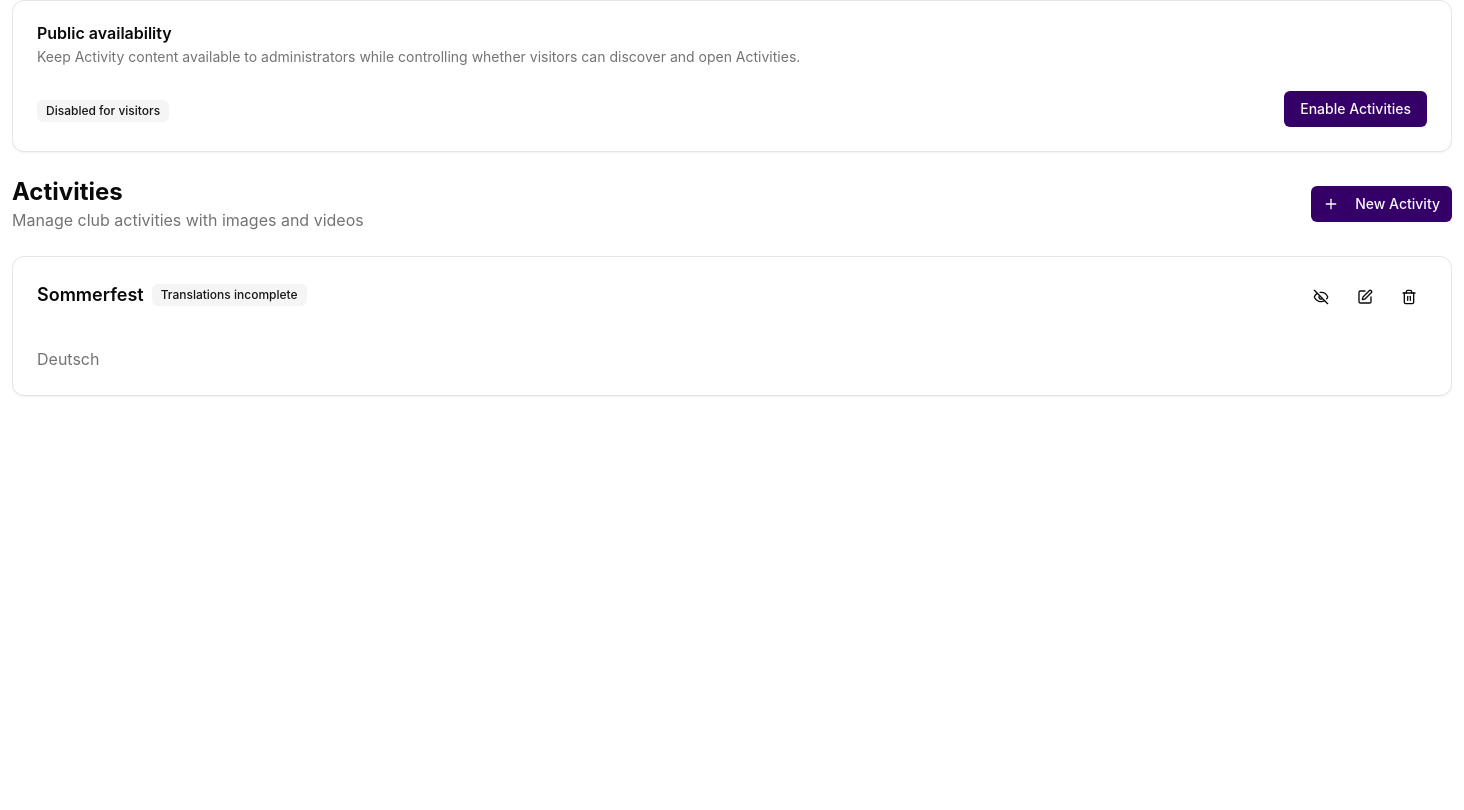
ActivityManager › does not expose editable values or Save when detail loading fails
Click the button named "Edit Activity Sommerfest".
click(1365, 297)  # box x1=1347 y1=281 x2=1383 y2=313
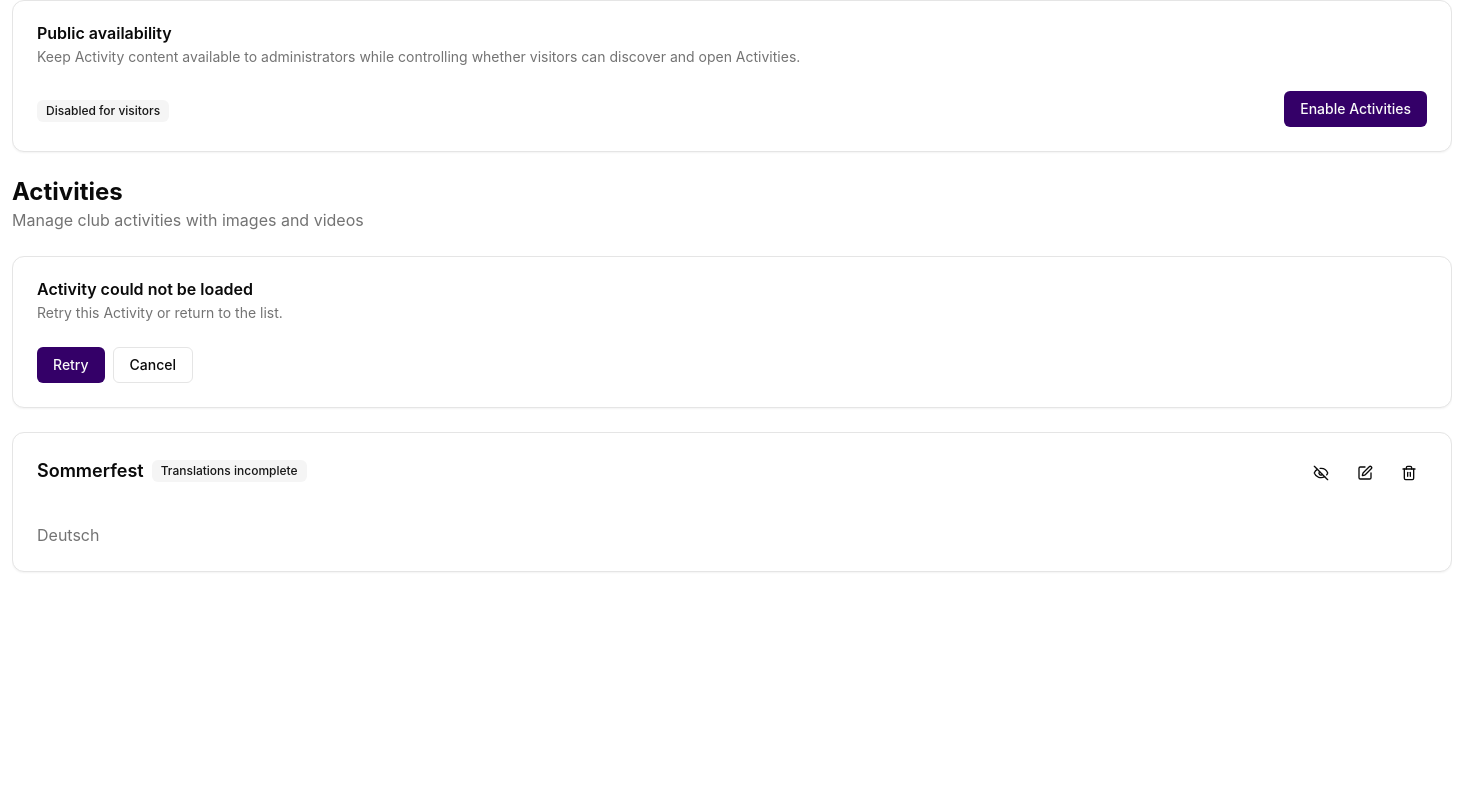
Expected: the text "Activity could not be loaded" is shown, x1=37 y1=279 x2=253 y2=299
